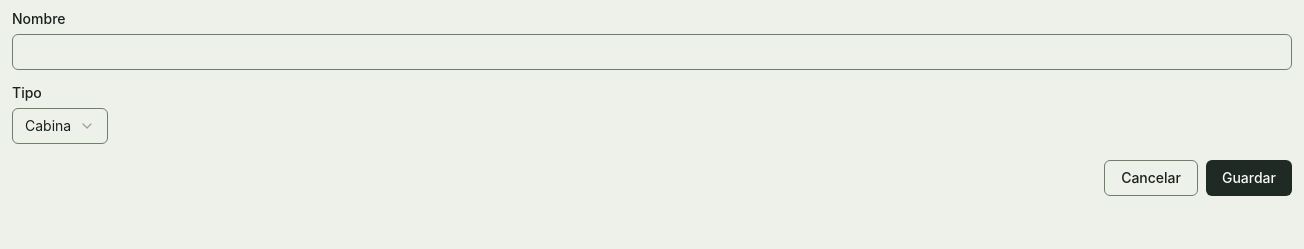
ResourceForm › muestra como alerta un validation con field id que no es del formulario
Type "Sala" into the field labelled "Nombre" at (652, 52), box x1=12 y1=34 x2=1292 y2=70
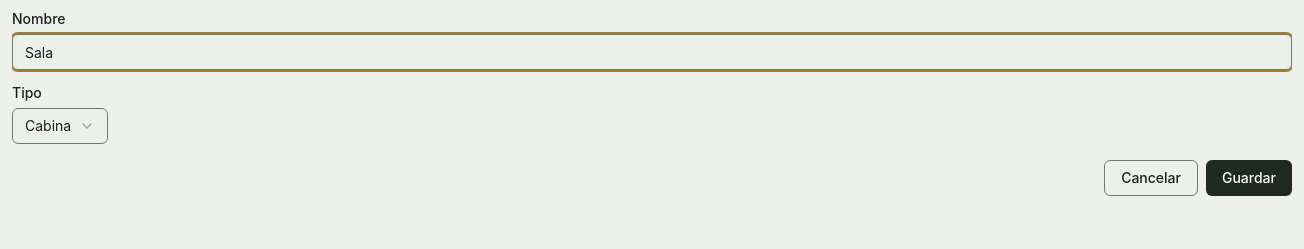
Click the button "Guardar" at (1249, 178), box x1=1206 y1=160 x2=1292 y2=196
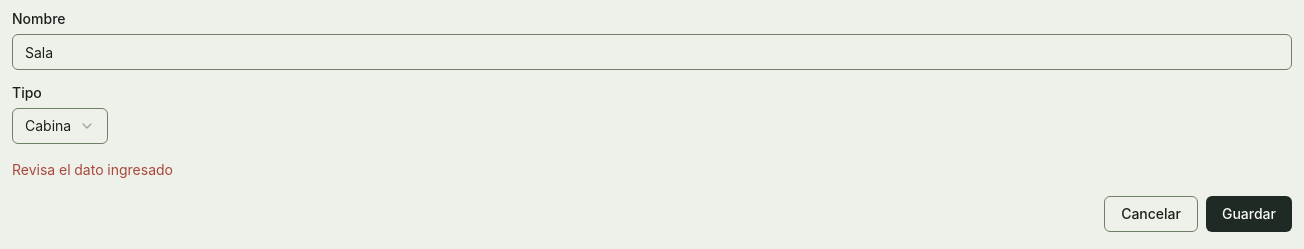
expect the message reads "Revisa el dato ingresado": met, box x1=12 y1=161 x2=173 y2=178
